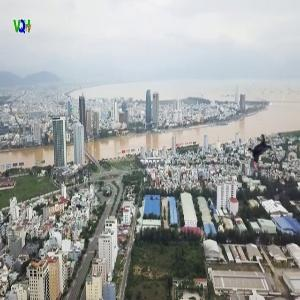drone: (243, 134, 280, 171)
